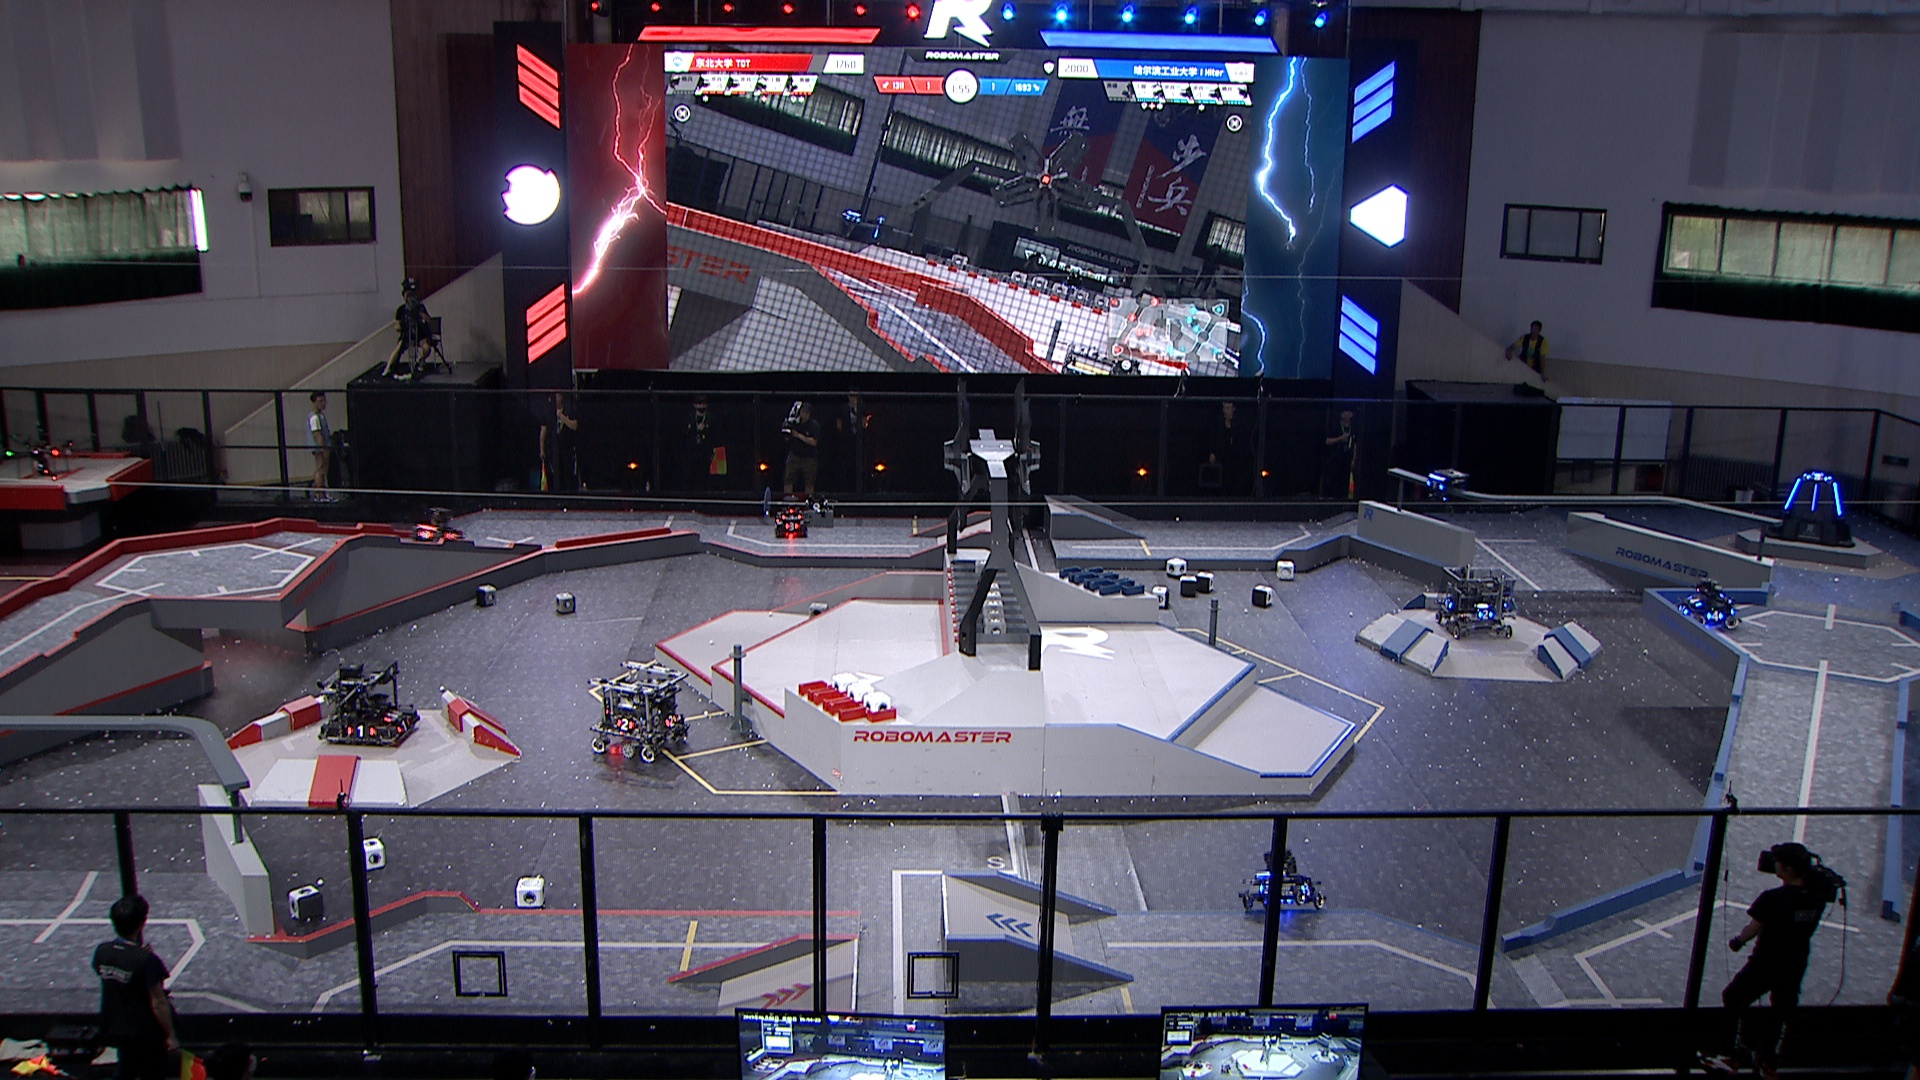armor: (1779, 476, 1804, 512), (344, 723, 377, 740), (1832, 480, 1846, 518), (390, 713, 413, 737), (1808, 481, 1822, 512), (380, 704, 404, 723), (1804, 471, 1833, 484), (1424, 477, 1448, 493), (615, 717, 638, 733), (1704, 607, 1726, 622), (659, 712, 680, 728), (413, 527, 436, 541), (1685, 595, 1705, 611), (1296, 878, 1313, 895), (1476, 607, 1494, 622), (781, 520, 800, 533), (1257, 877, 1273, 893), (1441, 593, 1455, 612), (1676, 603, 1691, 618), (782, 512, 802, 522)
base: (1759, 465, 1858, 551)
car: (588, 657, 692, 764), (316, 654, 422, 750), (1429, 560, 1518, 640), (1240, 843, 1331, 913), (1671, 574, 1741, 632), (404, 501, 468, 556), (767, 498, 814, 542)
watcher: (1419, 460, 1470, 512)
